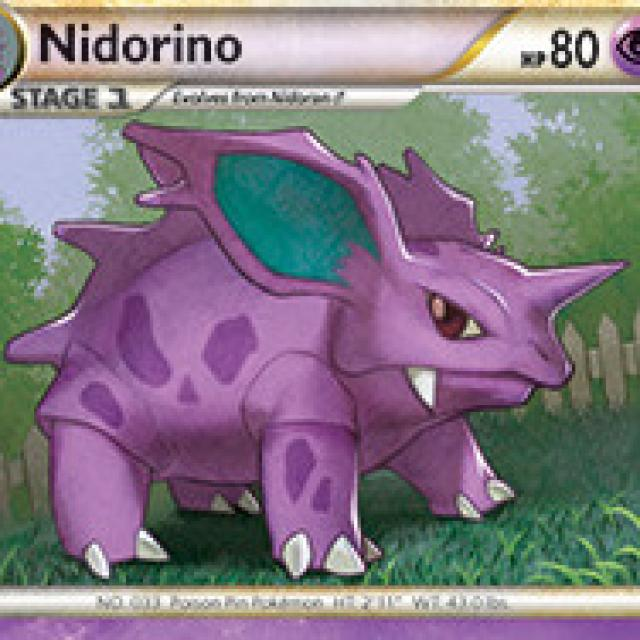Nidorino: (42, 120, 574, 572)
